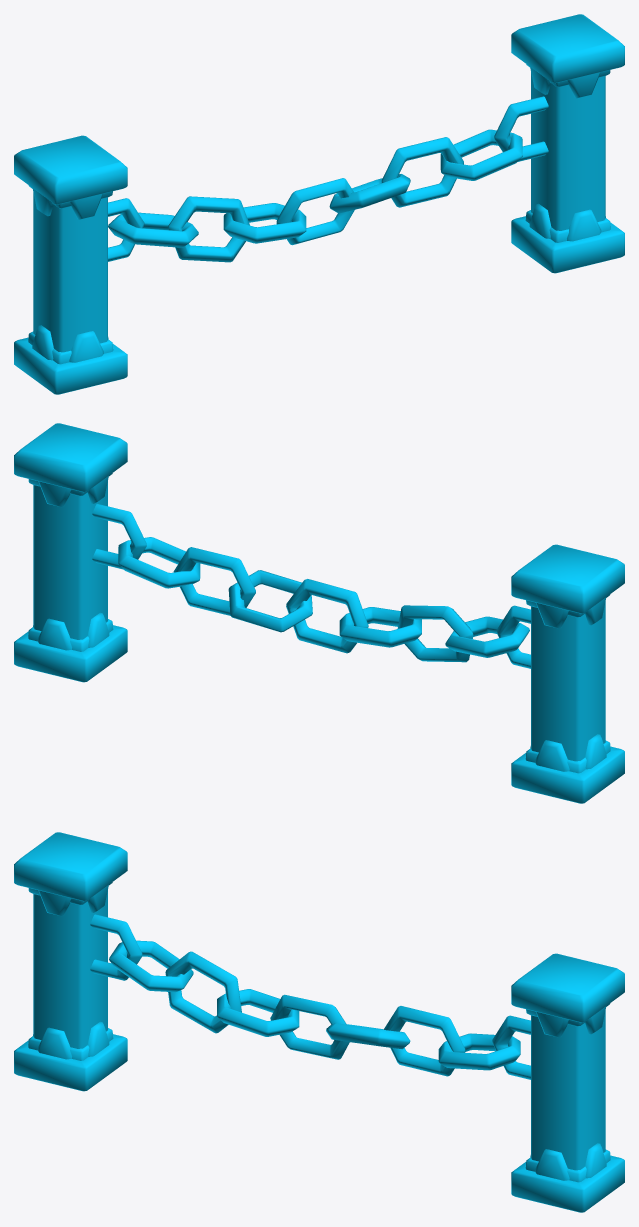
The model's file is FenceChain2.FBX.
3 renders of one model, top to bottom at view 1: azimuth 30°, elevation 25°; view 2: azimuth 150°, elevation 25°; view 3: azimuth 330°, elevation 25°, orthographic.
Parts seen in each view (by area): view 1: FenceChain2; view 2: FenceChain2; view 3: FenceChain2.
Part boxes in pixels (bbox=[...]): FenceChain2: bbox=[14, 14, 624, 394]; FenceChain2: bbox=[14, 423, 624, 803]; FenceChain2: bbox=[14, 832, 624, 1212].
Bounding box in the file's own units: 3.44 × 1.24 × 0.4414.
